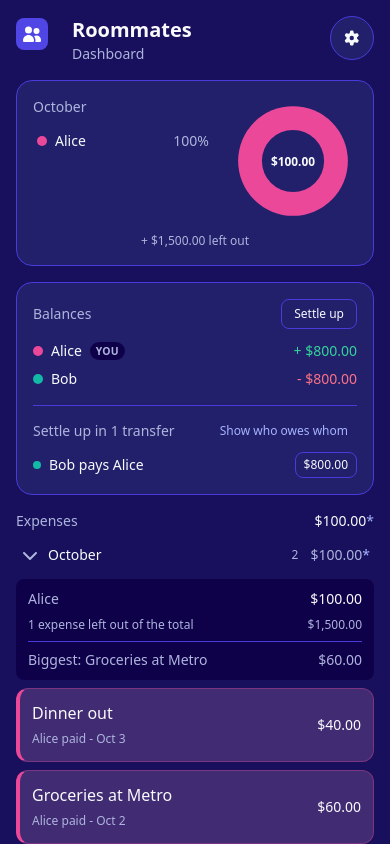
Test case: totals when the group leaves names out › says what the month really came to on a tap, and on a pointer
The width and height of the screenshot is (390, 844).
Hover over the element with test id "month-total-zone" at (342, 555), box [310,545,374,565]
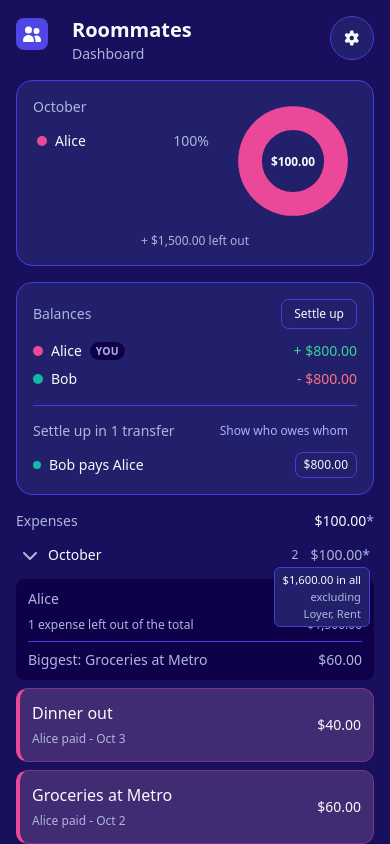
Check: the element with test id "month-left-out" shows "$1,600.00", box [282,572,361,587]
Move the pointer off the element with test id "month-total-zone", box [310,545,374,565]
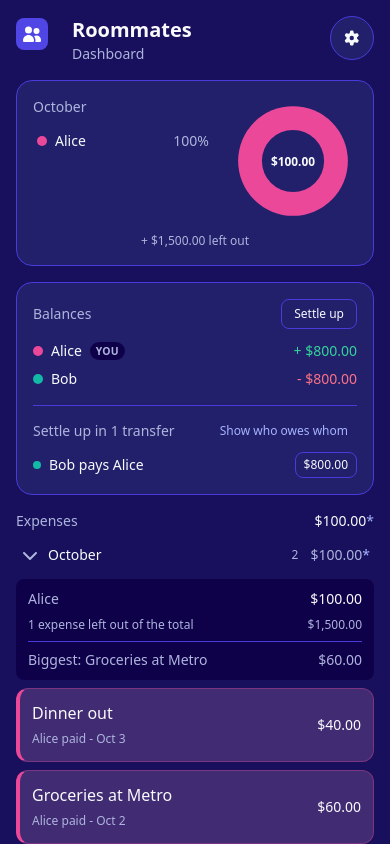
Click the button with test id "month-total" at (340, 555), box [310,545,370,565]
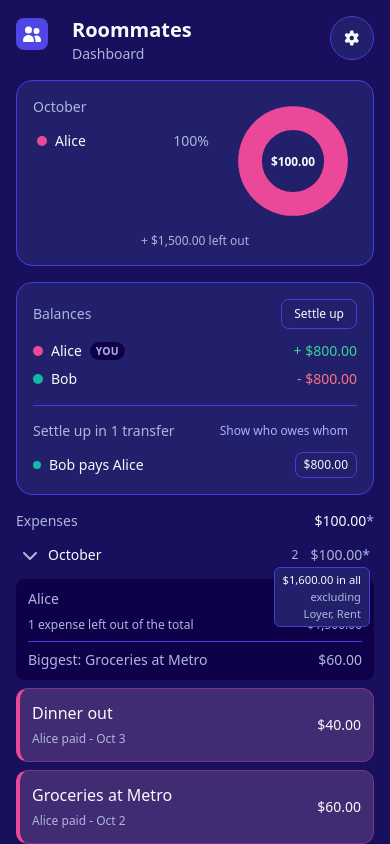
Check: the element with test id "month-left-out" shows "$1,600.00", box [282,572,361,587]
